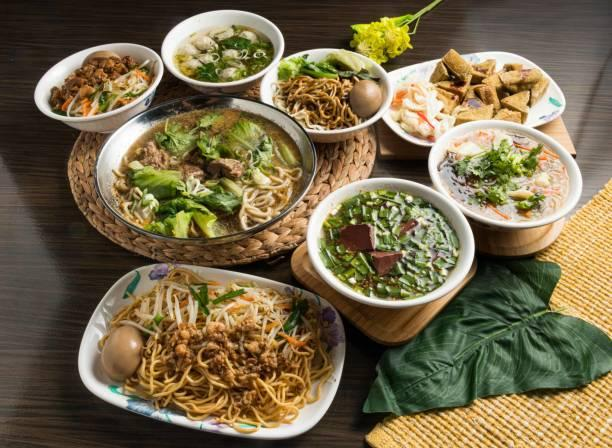Braised Crucian Carp: (77, 263, 343, 439), (94, 93, 312, 242), (305, 176, 473, 307), (428, 121, 582, 252), (380, 51, 564, 147), (258, 47, 391, 143), (33, 42, 162, 133), (159, 8, 282, 95)
